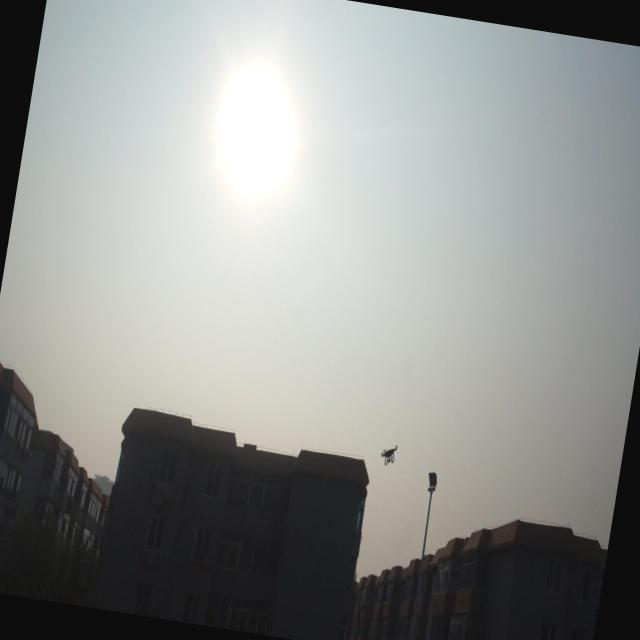drone: (378, 438, 400, 469)
